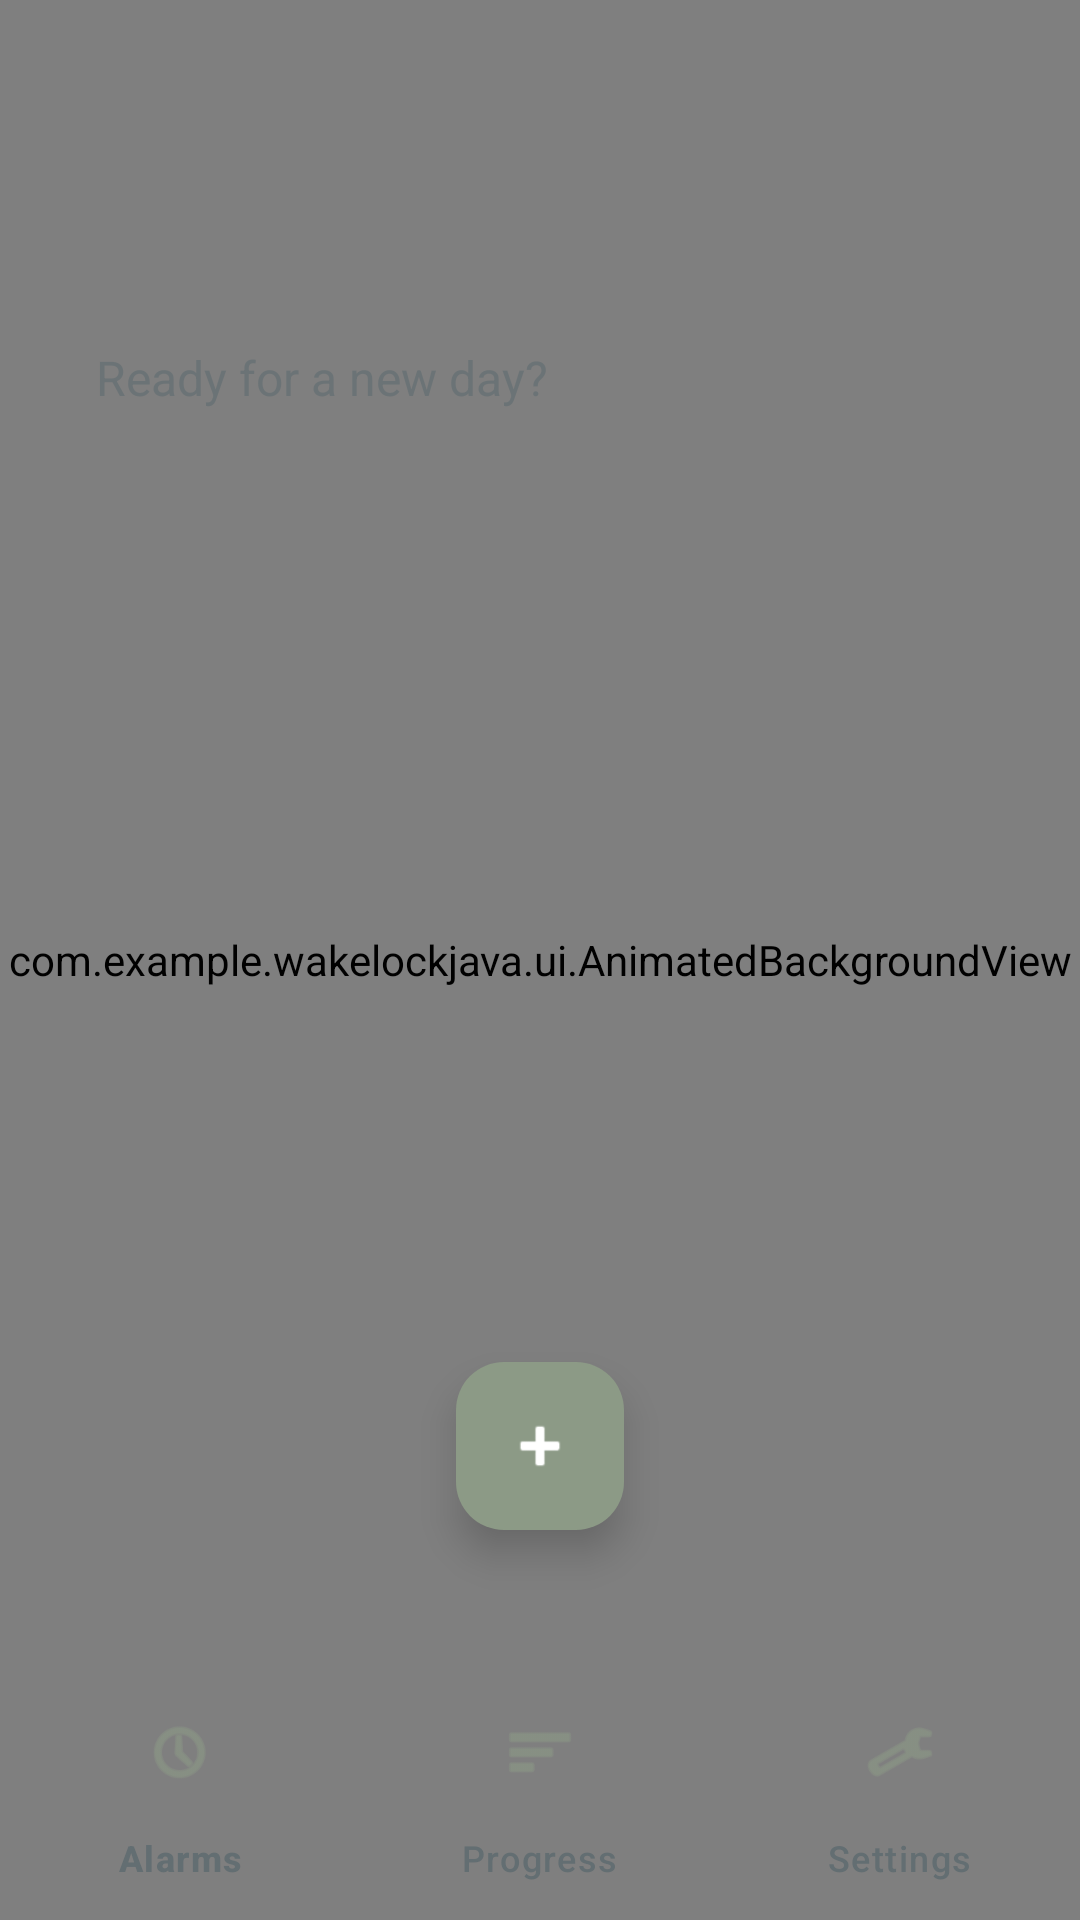

Where icons sit on this 1080×1920 app screen, as (x1, y1, x2, y2):
Add Alarm: (456, 1362, 624, 1530)
